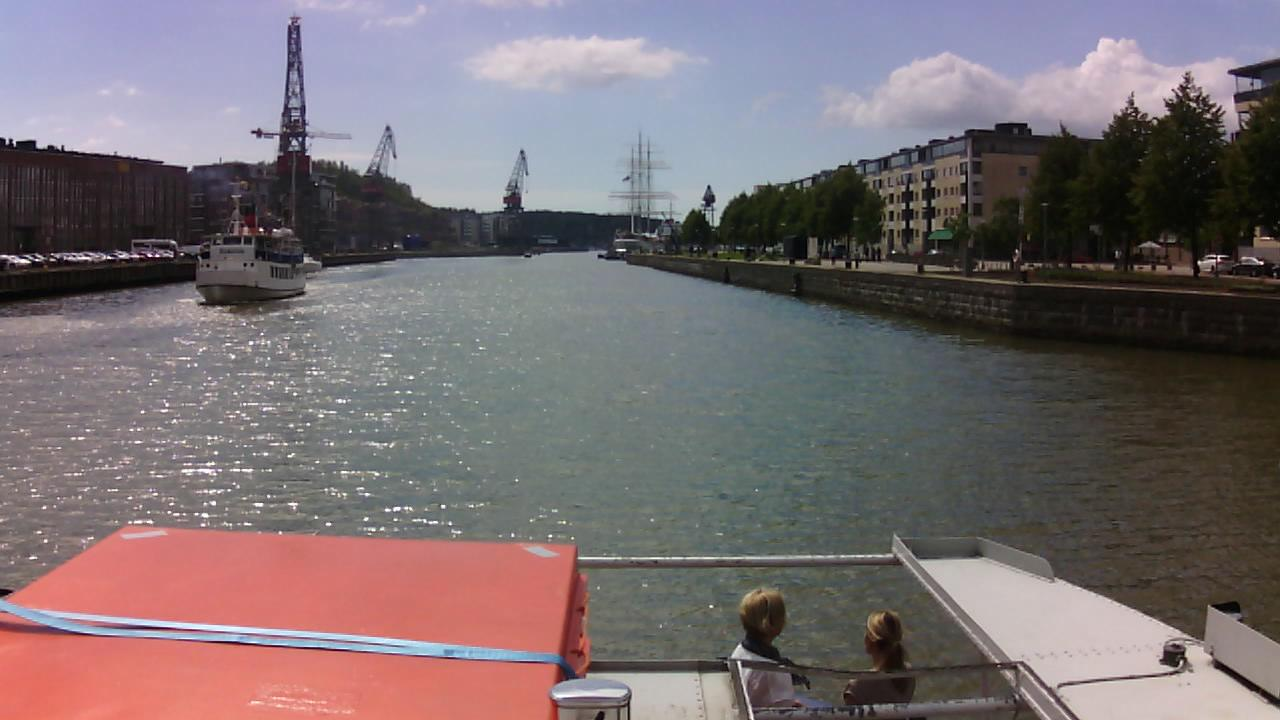Ship: (193, 195, 306, 302), (611, 135, 676, 247)
